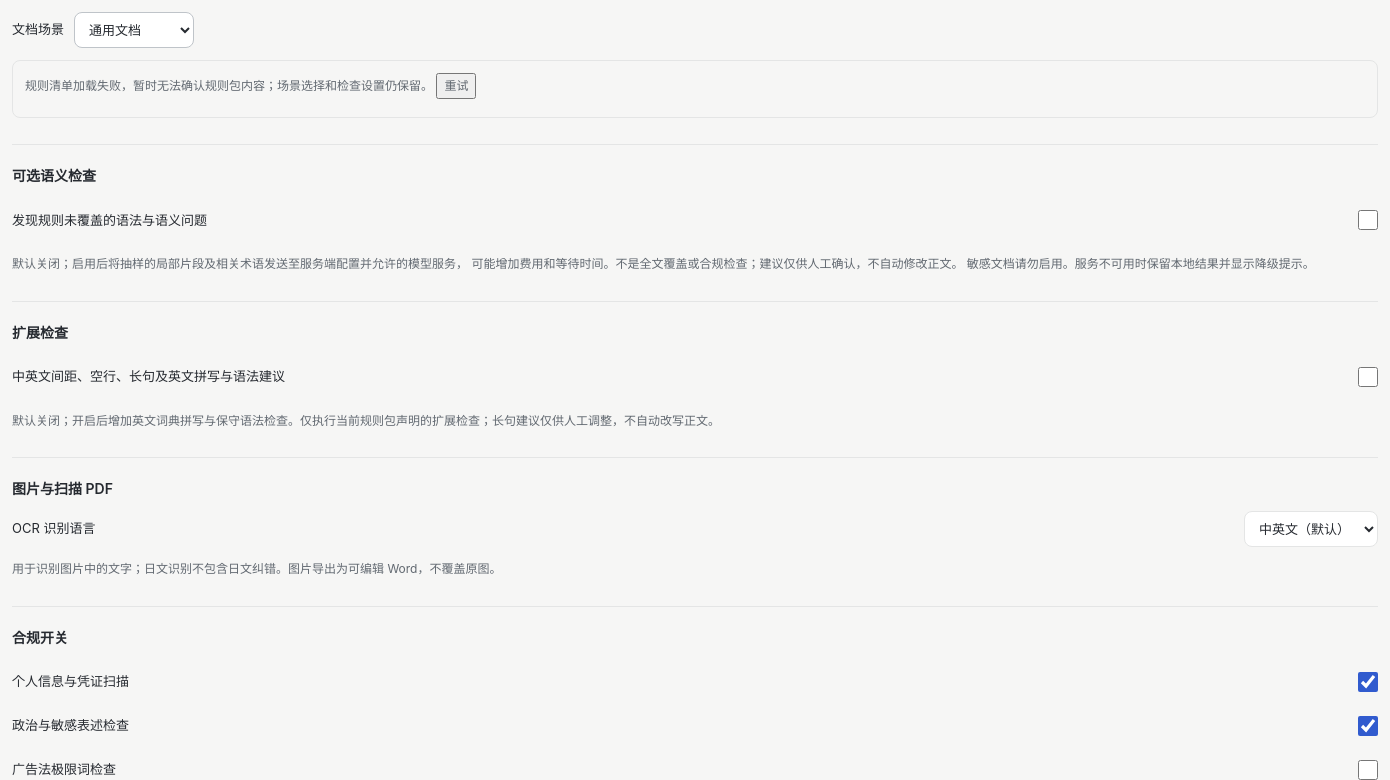
Test: VerificationSettings › shows a failed catalog explicitly and can retry without changing options
Click the button with aria-label "重试加载规则清单" at point(456, 86), box top-left (436, 73), bottom-right (476, 99)
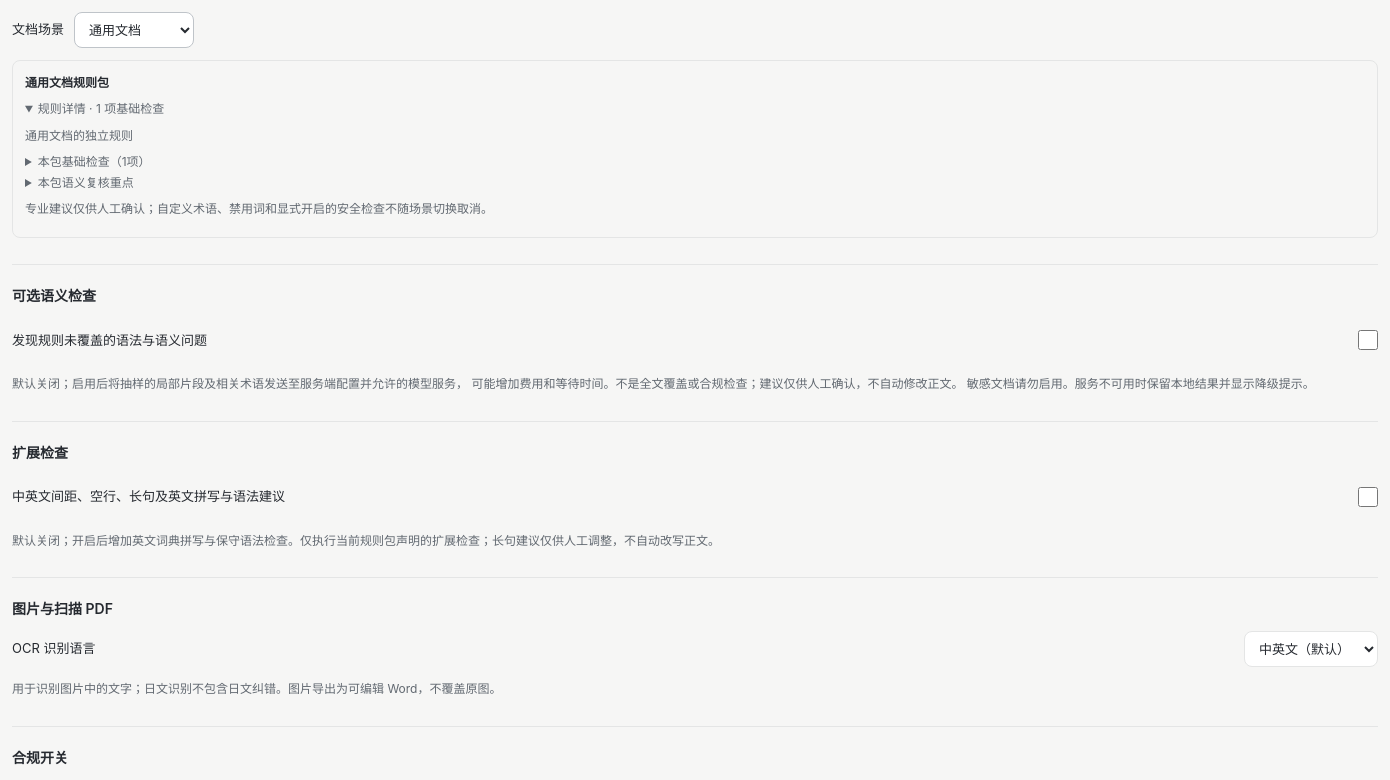
Expected: the text "通用文档的独立规则" is shown, top-left (25, 128), bottom-right (133, 143)
Expected: the text "规则清单加载失败" is gone
